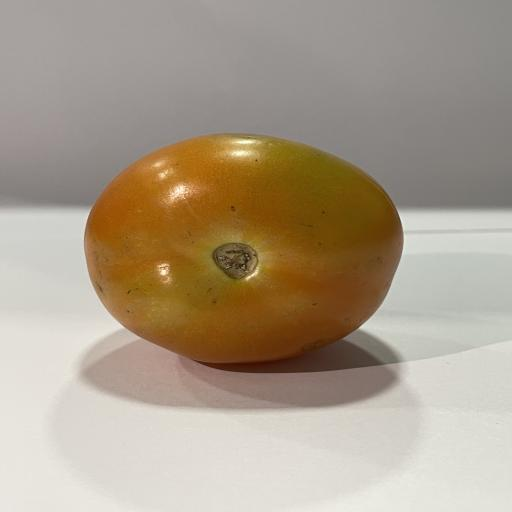unripe: (85, 134, 403, 363)
